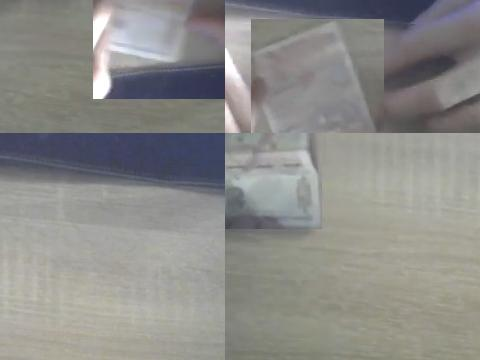10leva: (225, 133, 322, 229)
5leva: (251, 19, 380, 133)
